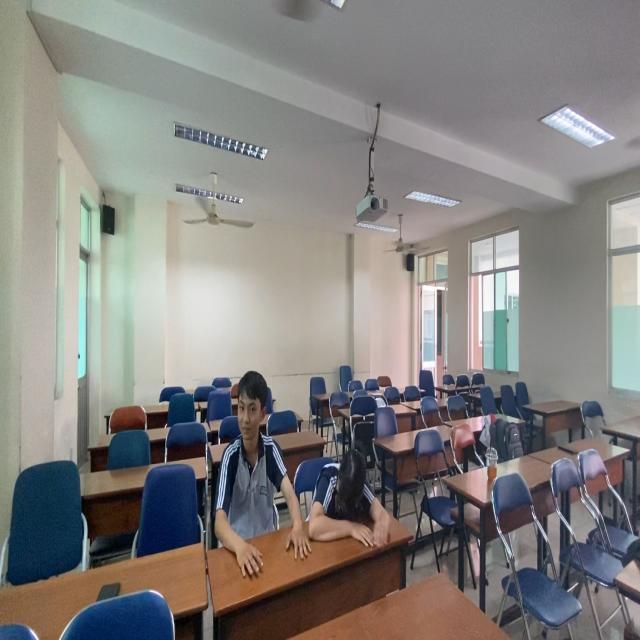sleep: (308, 448, 392, 549)
